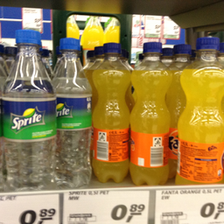soda: (3, 29, 56, 191), (174, 37, 224, 183), (132, 42, 172, 185), (92, 42, 132, 183), (53, 37, 91, 185)
